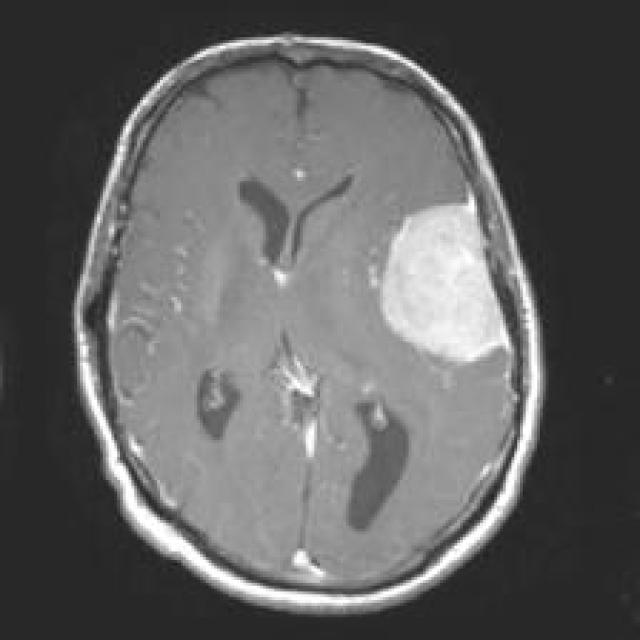meningioma_tumor: (371, 194, 512, 379)
